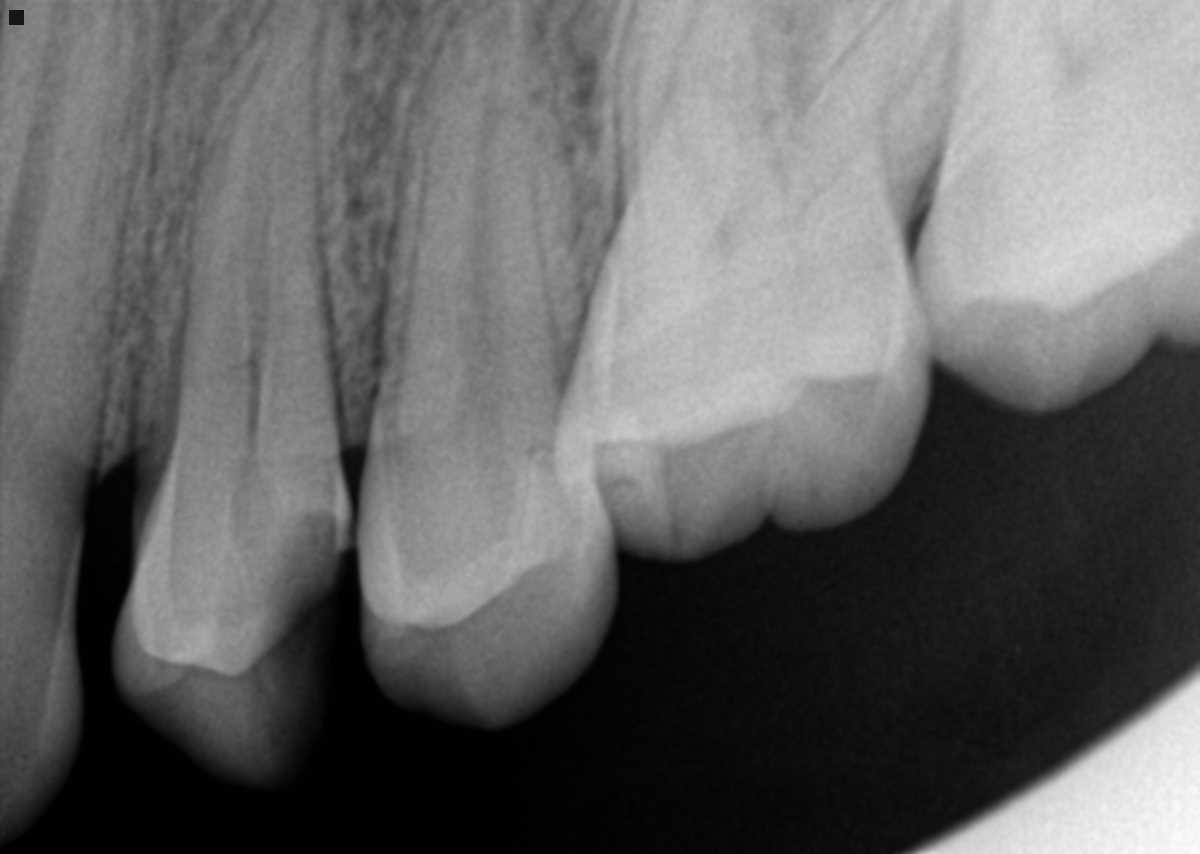Distal Canal: (831, 21, 952, 177)
Distal Root: (790, 0, 1005, 217)
Main Canal: (0, 0, 91, 390), (467, 12, 524, 447), (236, 165, 275, 502)
Main Root: (155, 0, 349, 514), (365, 0, 574, 471), (0, 0, 175, 460), (945, 0, 1200, 173)
Mesial Root: (614, 0, 770, 230)
decay: (254, 517, 351, 777)
